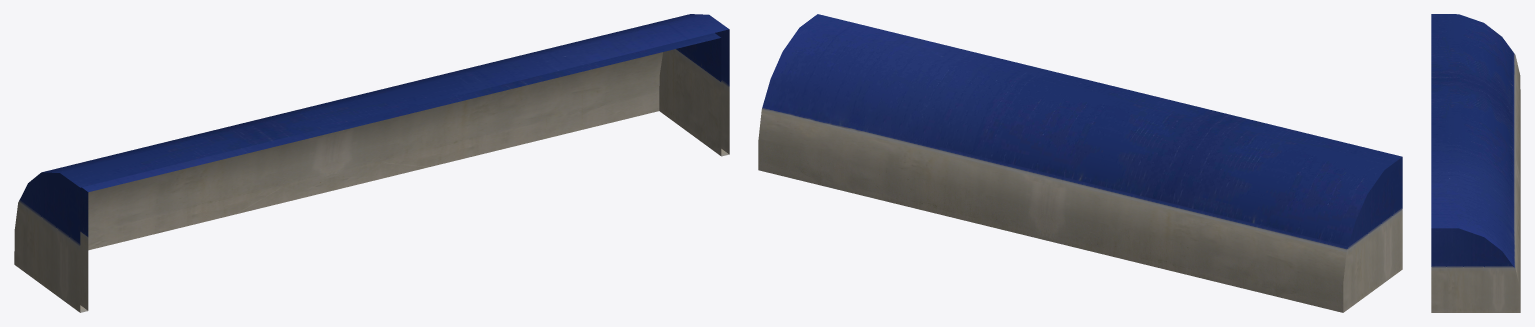
3 renders of one model, left to right at view 1: azimuth 30°, elevation 25°; view 2: azimuth 150°, elevation 25°; view 3: azimuth 270°, elevation 25°, orthographic. The views are drawn at different scales.
Visible parts, largest first — view 1: Awn (3); view 2: Awn (3); view 3: Awn (3).
Boxes of the visible parts, box(x1,y1,x2,y2) form: Awn (3): box(14, 14, 729, 312); Awn (3): box(758, 14, 1402, 312); Awn (3): box(1431, 14, 1520, 312).
Bounding box in the file's own units: 1278 × 236 × 225.
